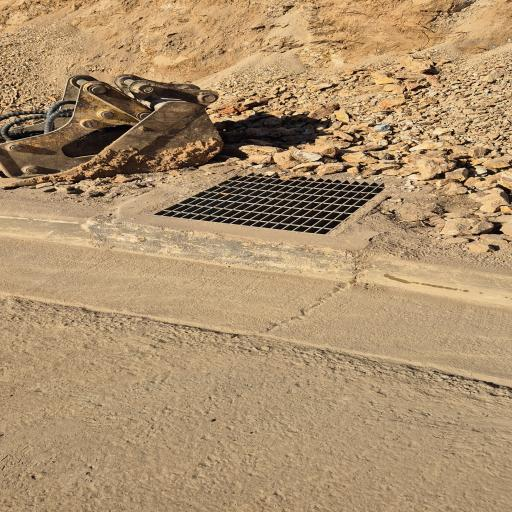drain: (155, 176, 383, 234)
